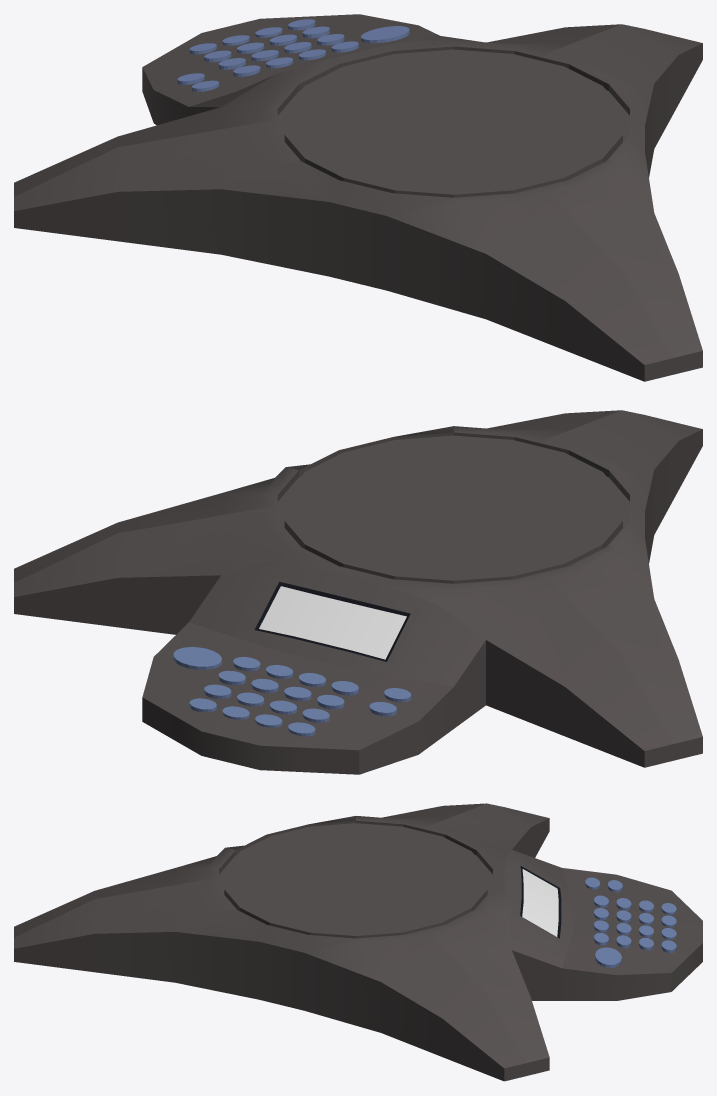
Rendered from Phone-Conference-Office_01.fbx.
3 views of the same model, one above another, from view 1: azimuth 30°, elevation 25°; view 2: azimuth 150°, elevation 25°; view 3: azimuth 270°, elevation 25° (orthographic). The views are drawn at different scales.
Visible parts, largest first — view 1: ConferencePhone; view 2: ConferencePhone, ConferencePhone_Display; view 3: ConferencePhone, ConferencePhone_Display.
Boxes of the visible parts, x1,y1,x2,y2 form: ConferencePhone: (14,14,702,381); ConferencePhone: (14,410,702,774); ConferencePhone_Display: (259,586,406,659); ConferencePhone: (14,803,702,1081); ConferencePhone_Display: (522,869,558,936).
Size of the model in its own units: 0.6144 by 0.078 by 0.6843.
